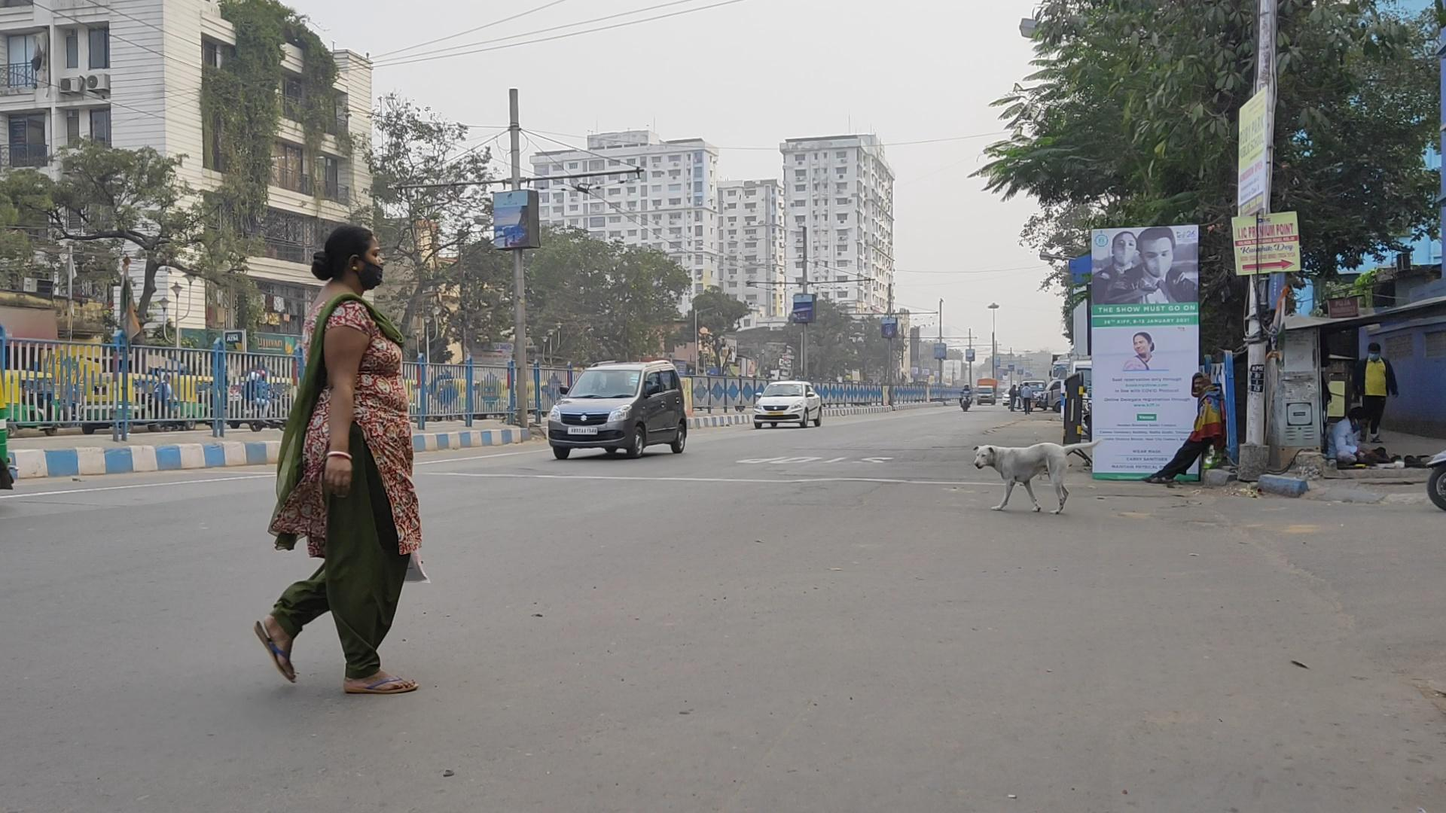bike: (959, 383, 973, 412)
car: (548, 358, 687, 461), (752, 380, 823, 431), (1020, 378, 1048, 411)
van: (977, 378, 997, 406)
